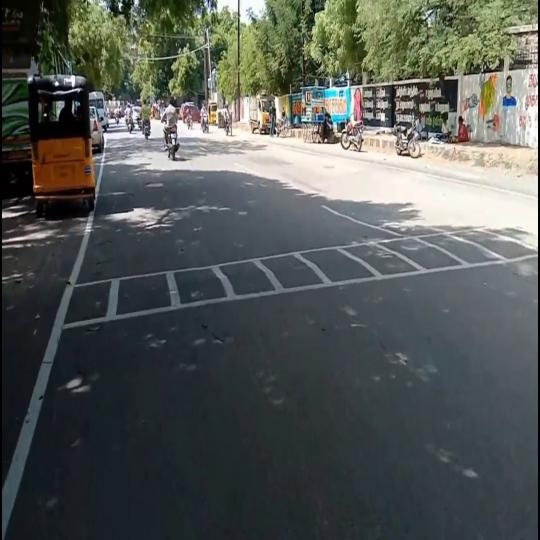Speed Bump: (63, 227, 539, 329)
